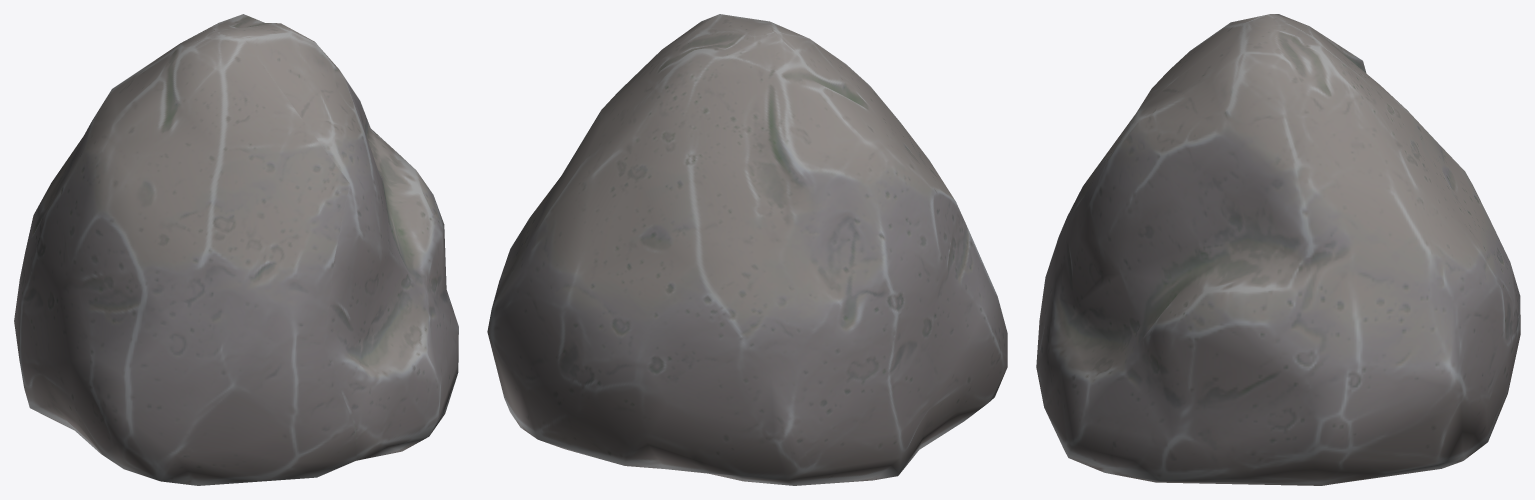
Rendered from Rock_01.fbx.
3 views of the same model, side by side, from view 1: azimuth 30°, elevation 25°; view 2: azimuth 150°, elevation 25°; view 3: azimuth 270°, elevation 25° (orthographic). The views are drawn at different scales.
Visible parts, largest first — view 1: Rock_01; view 2: Rock_01; view 3: Rock_01.
Boxes of the visible parts, x1=… form: Rock_01: x1=14, y1=14, x2=458, y2=485; Rock_01: x1=487, y1=14, x2=1007, y2=485; Rock_01: x1=1036, y1=14, x2=1520, y2=485.
Size of the model in its own units: 560 by 501 by 559.
